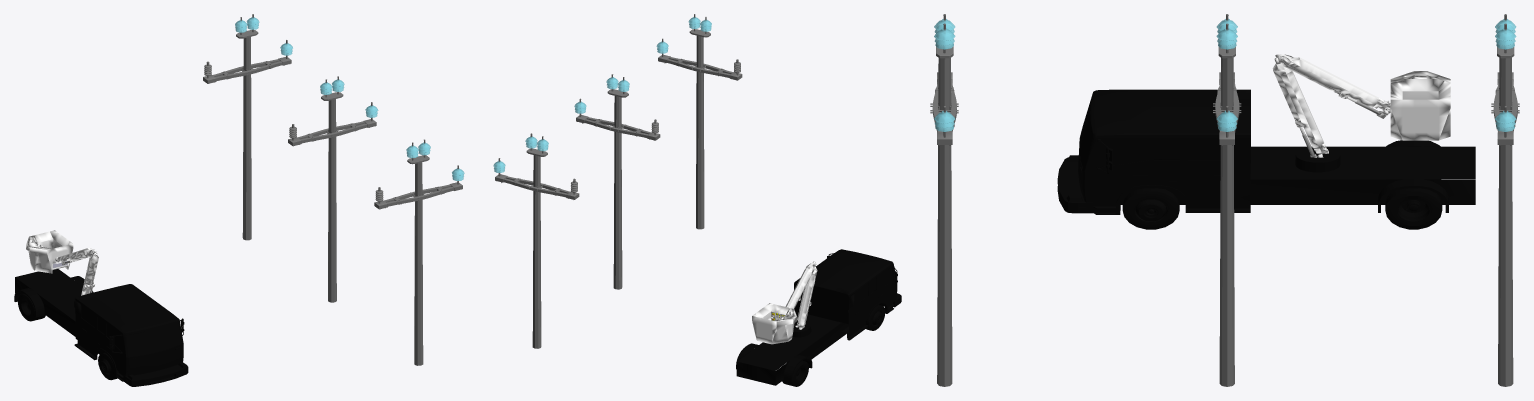
Rendered from Autocestello1.fbx.
The picture shows the model from 3 angles, left to right: view 1: azimuth 30°, elevation 25°; view 2: azimuth 150°, elevation 25°; view 3: azimuth 270°, elevation 25°; orthographic projection. The views are drawn at different scales.
Parts seen in each view (by area): view 1: FireEngine, Cylinder.002, Cylinder.001, Cylinder.003; view 2: FireEngine, Cylinder.003, Cylinder.001, Cylinder.002; view 3: FireEngine, Cylinder.002, Cylinder.001, Cylinder.003.
Boxes of the visible parts, x1,y1,x2,y2 form: FireEngine: (14, 230, 188, 386); Cylinder.002: (203, 14, 292, 240); Cylinder.001: (288, 76, 378, 302); Cylinder.003: (374, 139, 464, 365); FireEngine: (736, 249, 901, 386); Cylinder.003: (656, 14, 742, 229); Cylinder.001: (574, 74, 660, 289); Cylinder.002: (493, 133, 579, 348); FireEngine: (1057, 54, 1475, 229); Cylinder.002: (1491, 14, 1519, 386); Cylinder.001: (1213, 14, 1241, 386); Cylinder.003: (930, 14, 958, 386).
Size of what is drawn, in the model's own units: 1027 by 722 by 1057.
